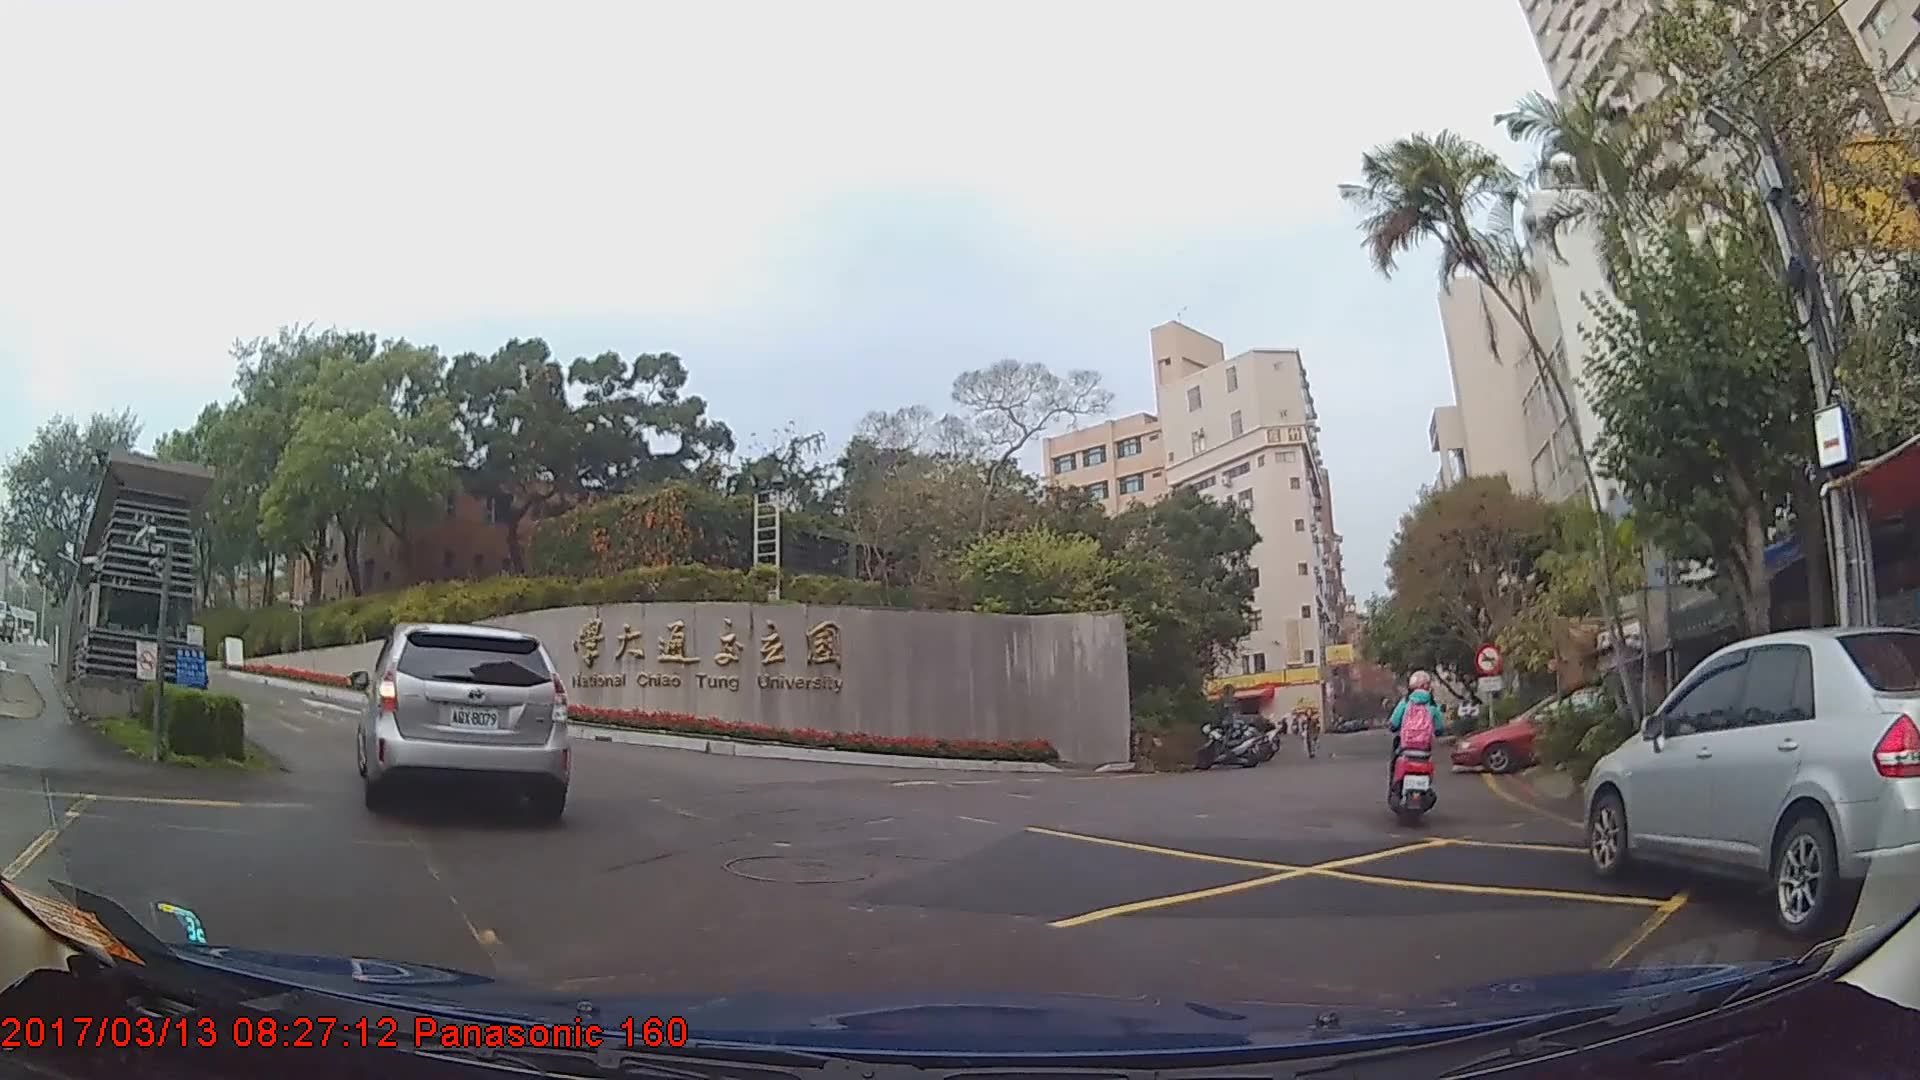pedestrian: (1300, 711, 1322, 764)
rider: (1381, 666, 1444, 831)
vehicle: (1582, 625, 1920, 938), (352, 618, 568, 824), (1453, 686, 1640, 773)
